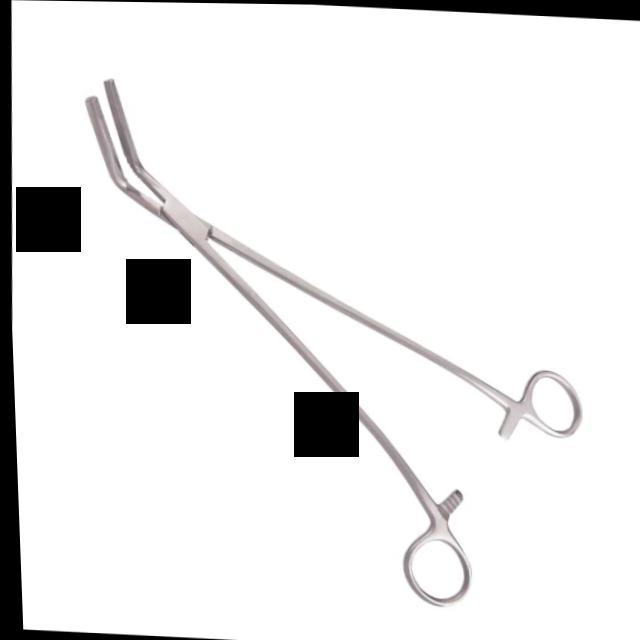Right Angle Colon Clamp: (58, 63, 602, 612)
